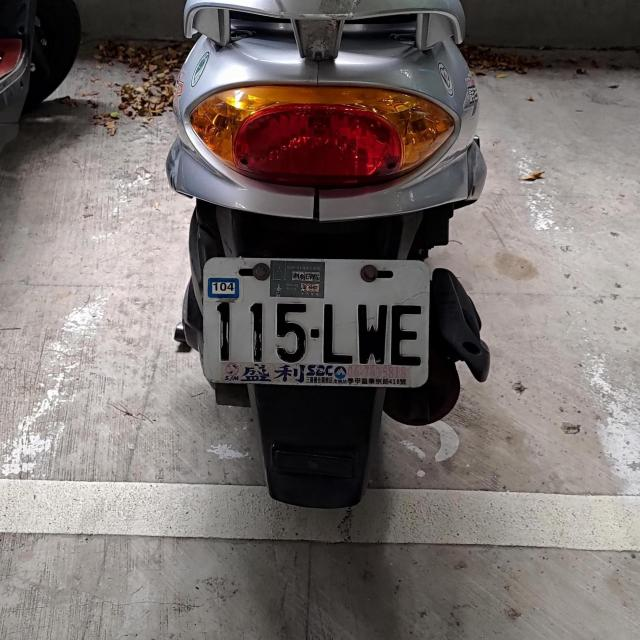W: (204, 256, 430, 389)
